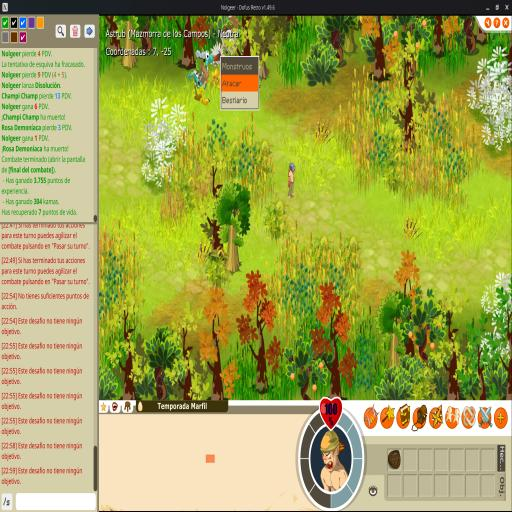Enemigos: (188, 68, 210, 106), (195, 42, 222, 71), (221, 32, 239, 60)
Personaje: (287, 162, 296, 198)
